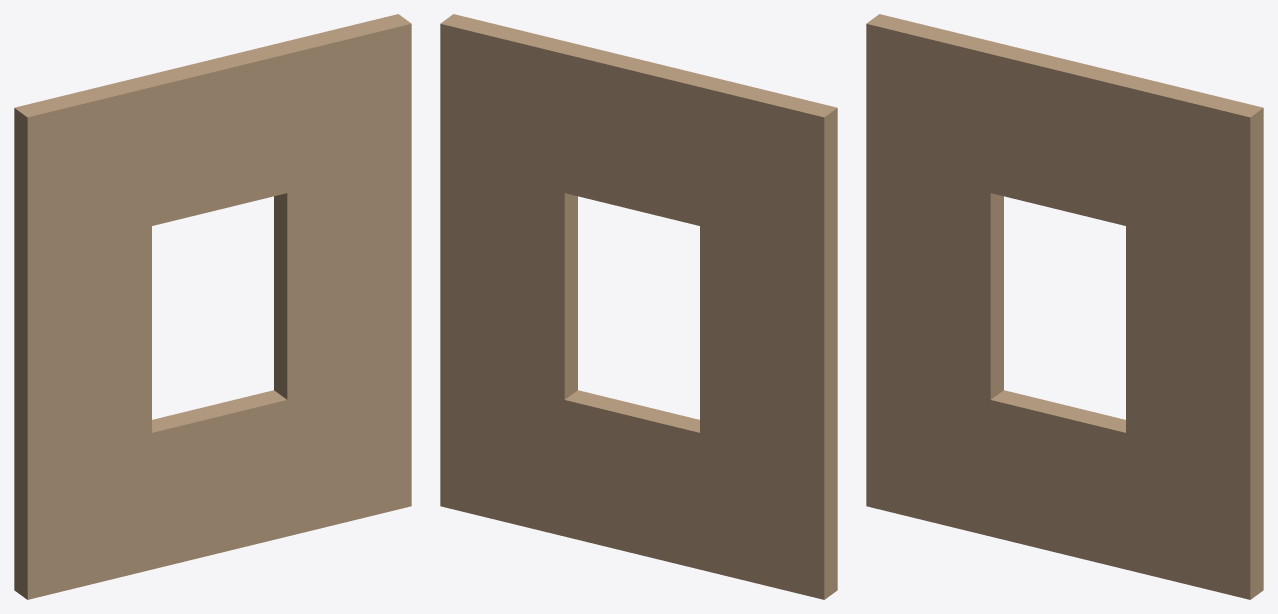
File: Wall2_C1_03.fbx
The picture shows the model from 3 angles, left to right: view 1: azimuth 30°, elevation 25°; view 2: azimuth 150°, elevation 25°; view 3: azimuth 330°, elevation 25°; orthographic projection.
Visible parts, largest first — view 1: Wall2_C1_03; view 2: Wall2_C1_03; view 3: Wall2_C1_03.
Boxes of the visible parts, x1,y1,x2,y2 form: Wall2_C1_03: (14,14,411,599); Wall2_C1_03: (440,14,837,599); Wall2_C1_03: (866,14,1263,599).
Bounding box in the file's own units: 250 × 300 × 15.
